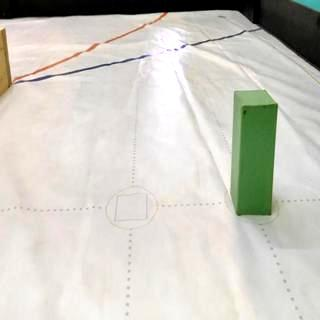greenbox: (232, 86, 278, 214)
